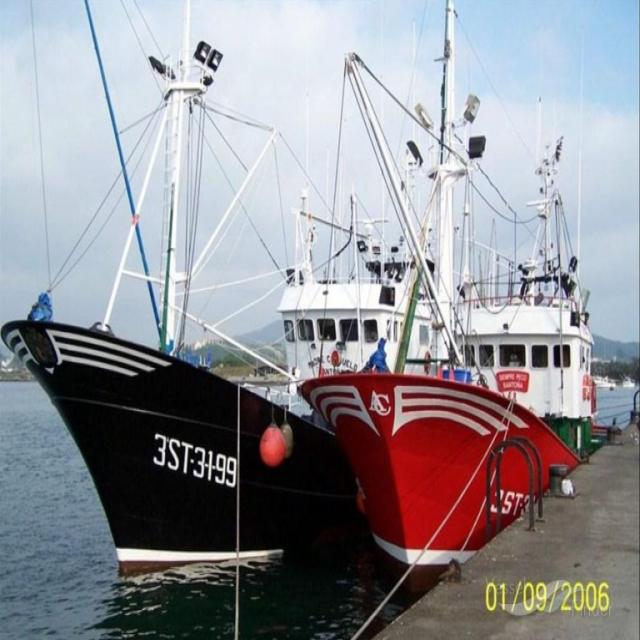Fishing Vessel: (3, 39, 363, 557), (301, 48, 595, 566)
